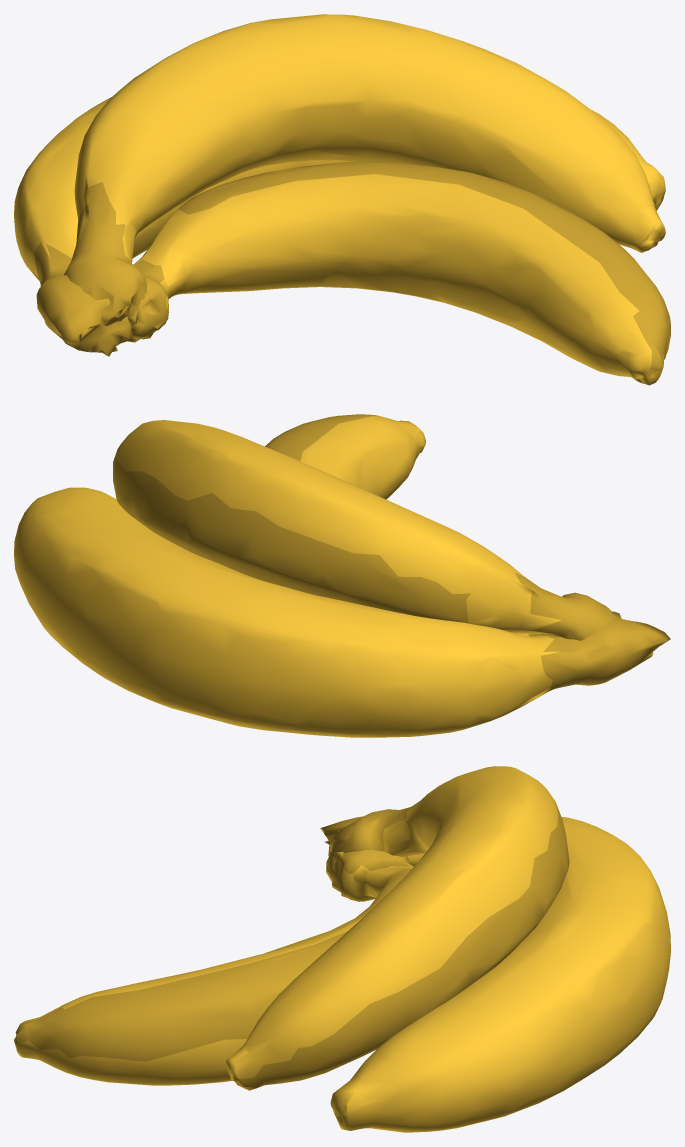
File: Banana_2.FBX
3 views of the same model, one above another, from view 1: azimuth 30°, elevation 25°; view 2: azimuth 150°, elevation 25°; view 3: azimuth 270°, elevation 25° (orthographic). The views are drawn at different scales.
Parts seen in each view (by area): view 1: AM130_028_001; view 2: AM130_028_001; view 3: AM130_028_001.
Part boxes in pixels (x1=…): AM130_028_001: x1=14, y1=14, x2=670, y2=385; AM130_028_001: x1=14, y1=414, x2=670, y2=737; AM130_028_001: x1=14, y1=766, x2=670, y2=1132.
Bounding box in the file's own units: 418 × 407 × 145.
Materials: 1 (1 with a texture image).
